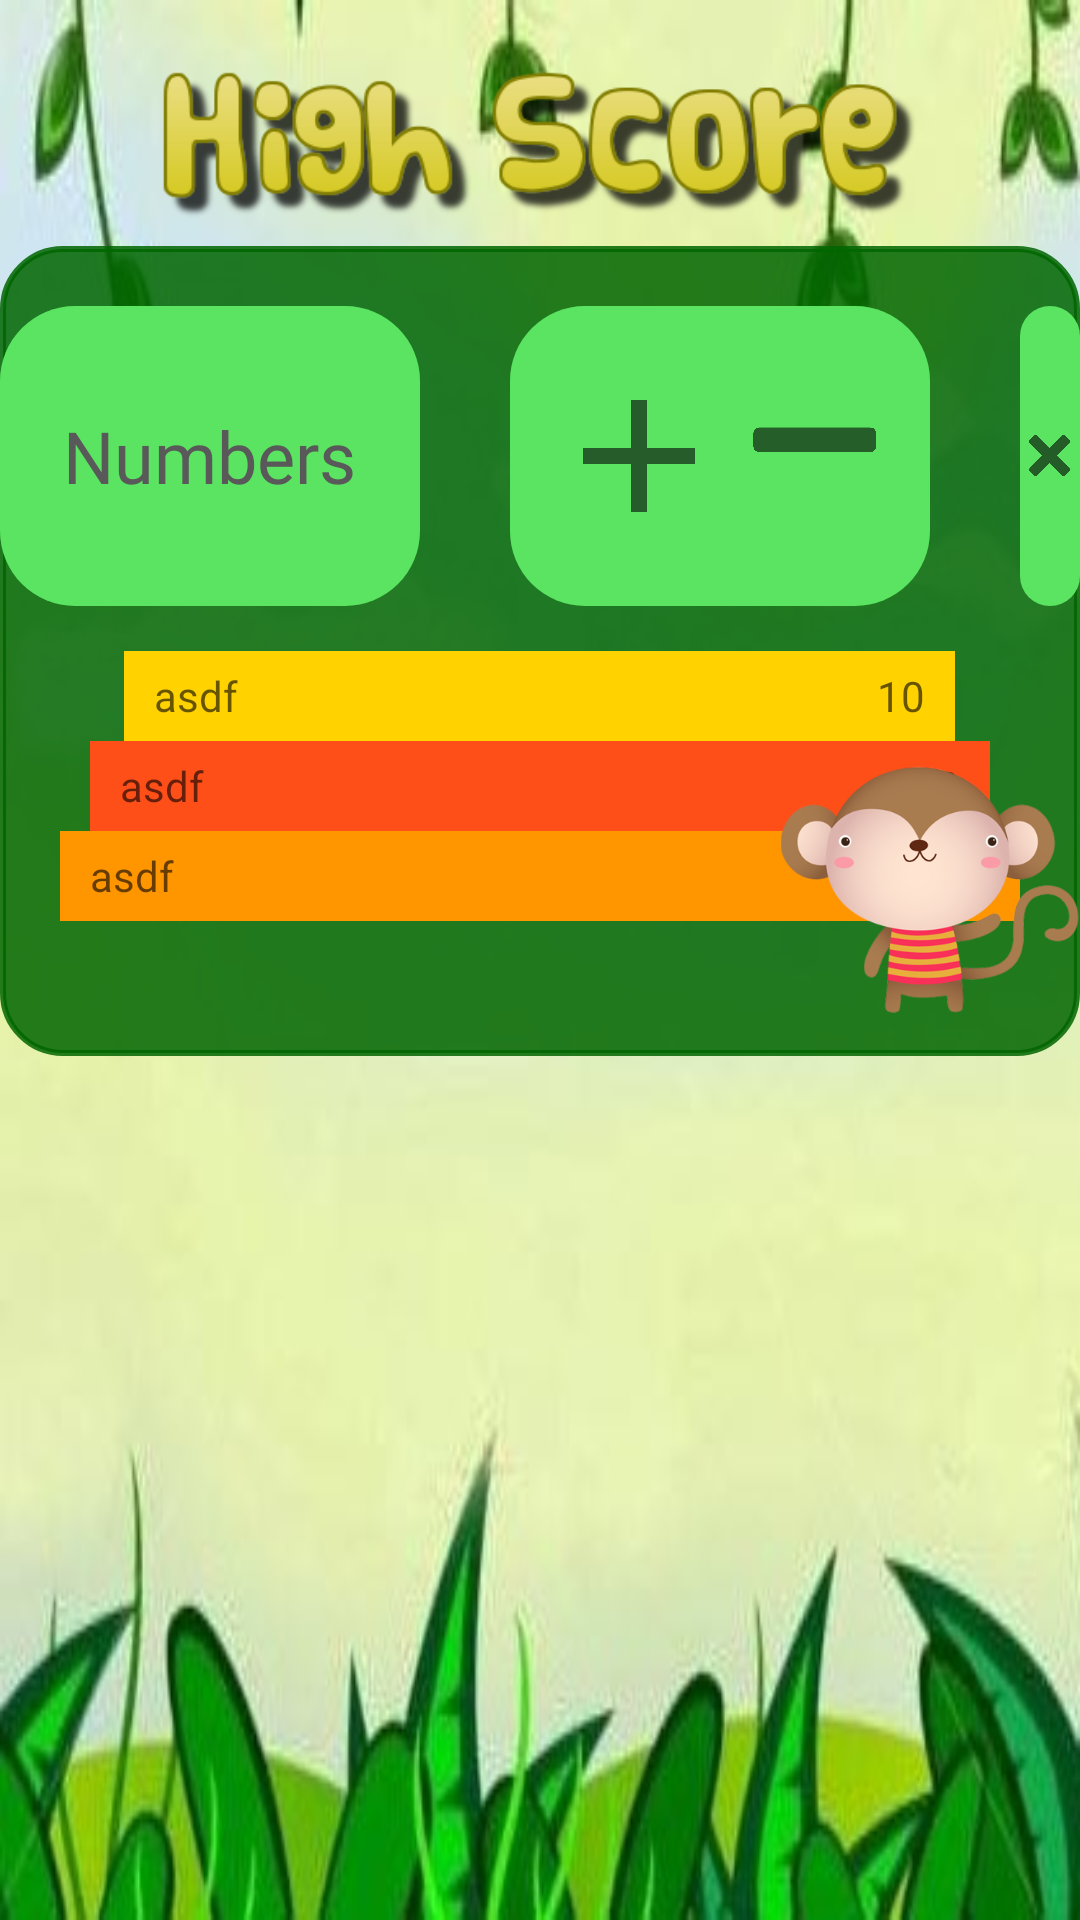

Named icons in this screenshot (1080×1920) and their centers, (x=x, y=y):
char: (x=930, y=891)
minus: (x=814, y=439)
multiply: (x=1049, y=455)
plus: (x=639, y=456)
